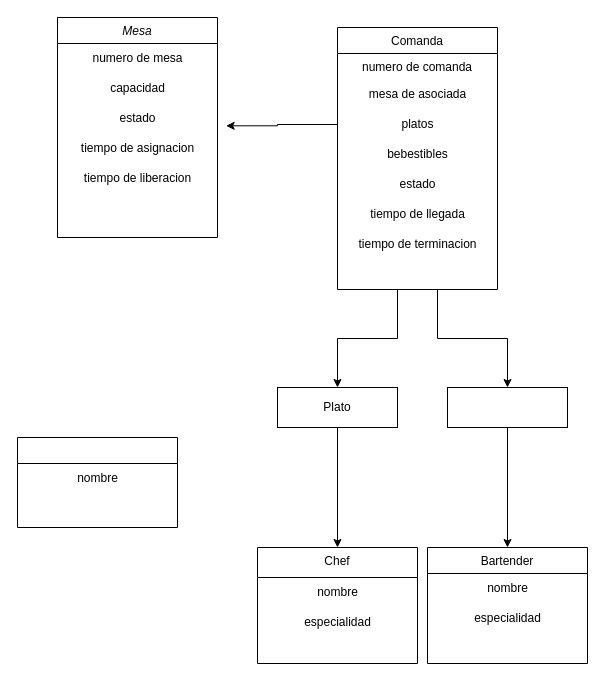
The diagram is 605 pixels wide and 681 high, and some of its shapes have lost their labels. The shapes that lost their labels are listed below. From the top down, each one's box as (x1, y1, x2, y2) in pixels, then its label:
(446, 386, 568, 428): Bebestible
(16, 436, 178, 528): Runner
